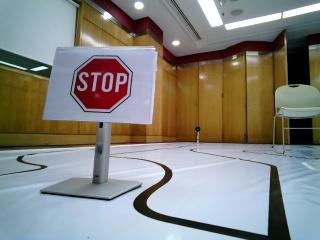stop: (59, 49, 144, 121)
